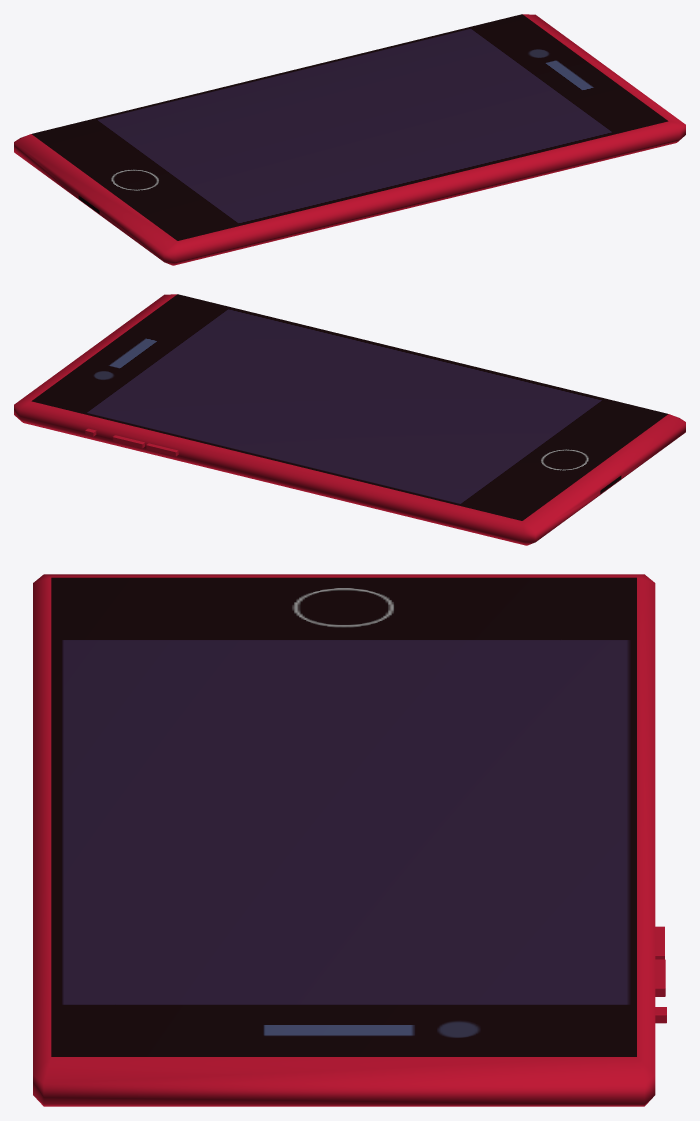
The model's file is MyPhone1.fbx.
The picture shows the model from 3 angles, top to bottom: view 1: azimuth 30°, elevation 25°; view 2: azimuth 150°, elevation 25°; view 3: azimuth 270°, elevation 25°; orthographic projection. The views are drawn at different scales.
Visible parts, largest first — view 1: myphone; view 2: myphone; view 3: myphone.
Boxes of the visible parts, x1,y1,x2,y2 form: myphone: (14,14,685,265); myphone: (14,294,685,545); myphone: (33,574,666,1106).
Size of the model in its own units: 548 by 21.85 by 288.
